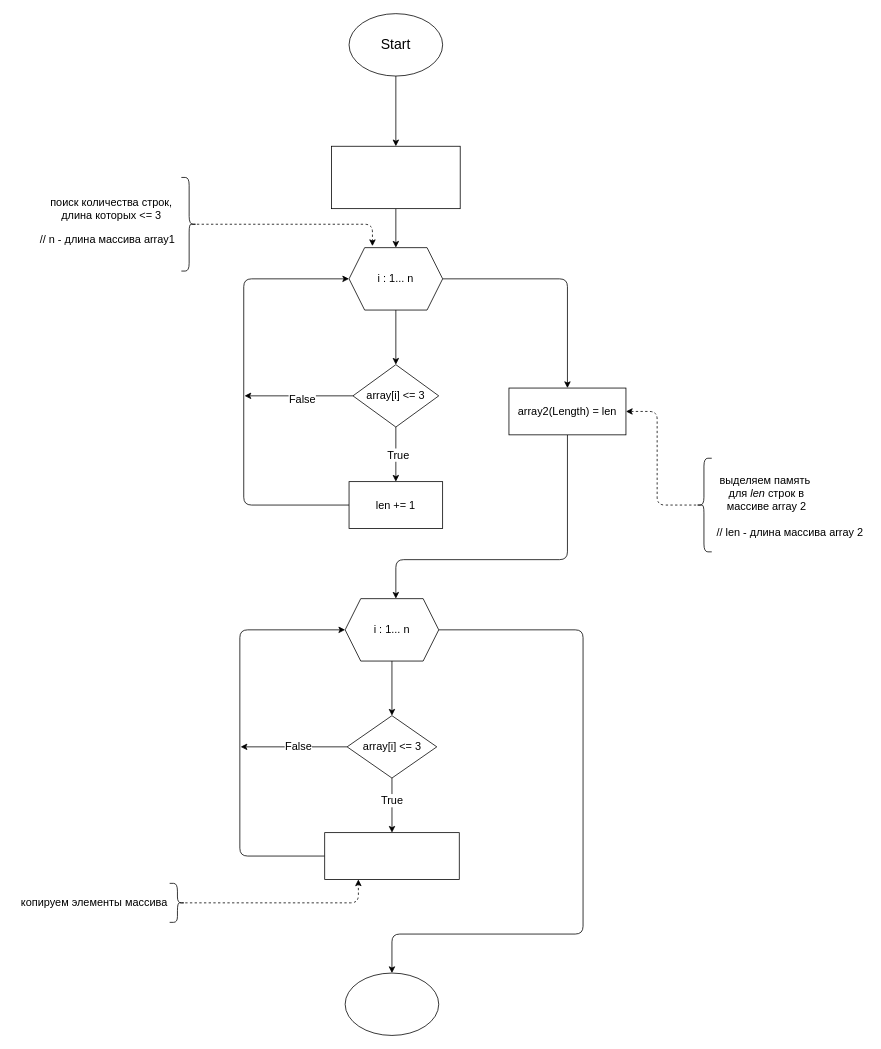
This 881x1049 diagram has some shape labels left out. The shapes that lost their labels are listed below. From the top down, each one's box as (x1, y1, x2, y2) in pixels, then its label:
(331, 145, 460, 209): array1Input, array2Input, index := 0, len := 0
(324, 832, 459, 879): array2[index] = array1[i], index += 1
(344, 972, 439, 1035): End
